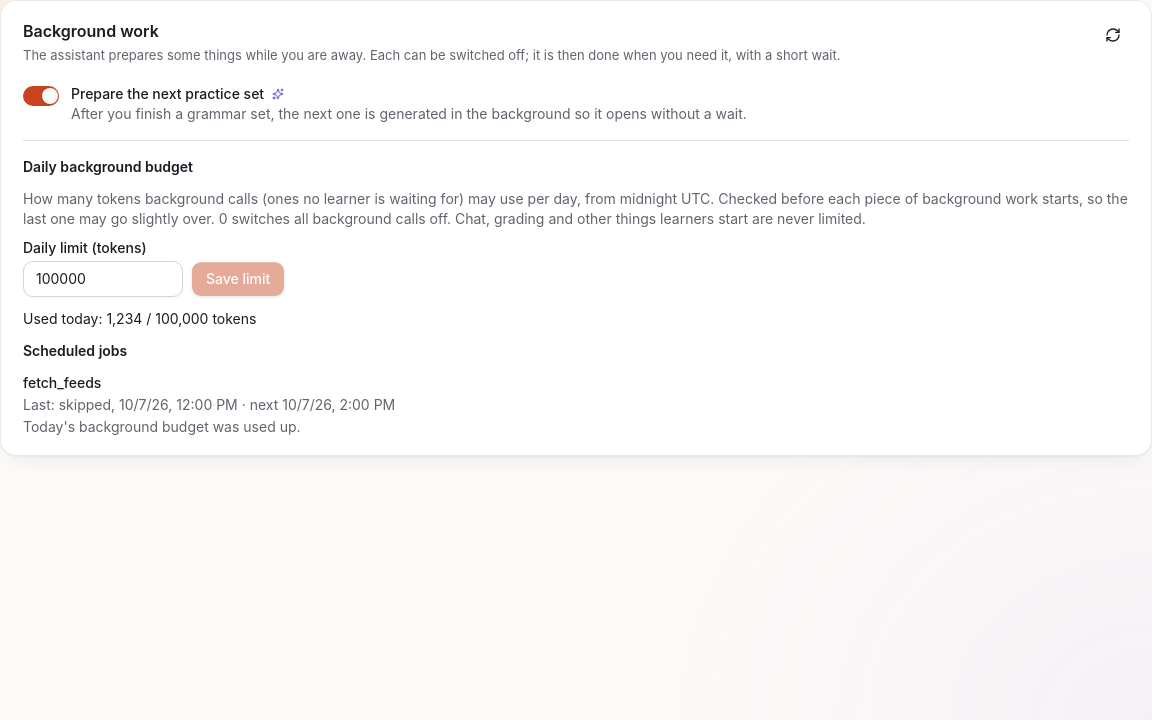
Test: BackgroundSection › shows managers today's use and jobs, and saves a new limit
Check: the text "Used today: 1,234 / 100,000 tokens" is shown, box [23,310,256,327]
Check: the text "fetch_feeds" is shown, box [23,374,101,391]
Replace the text in the number field labelled "Daily limit (tokens)" with "0" at point(103, 279), box [23,261,183,297]
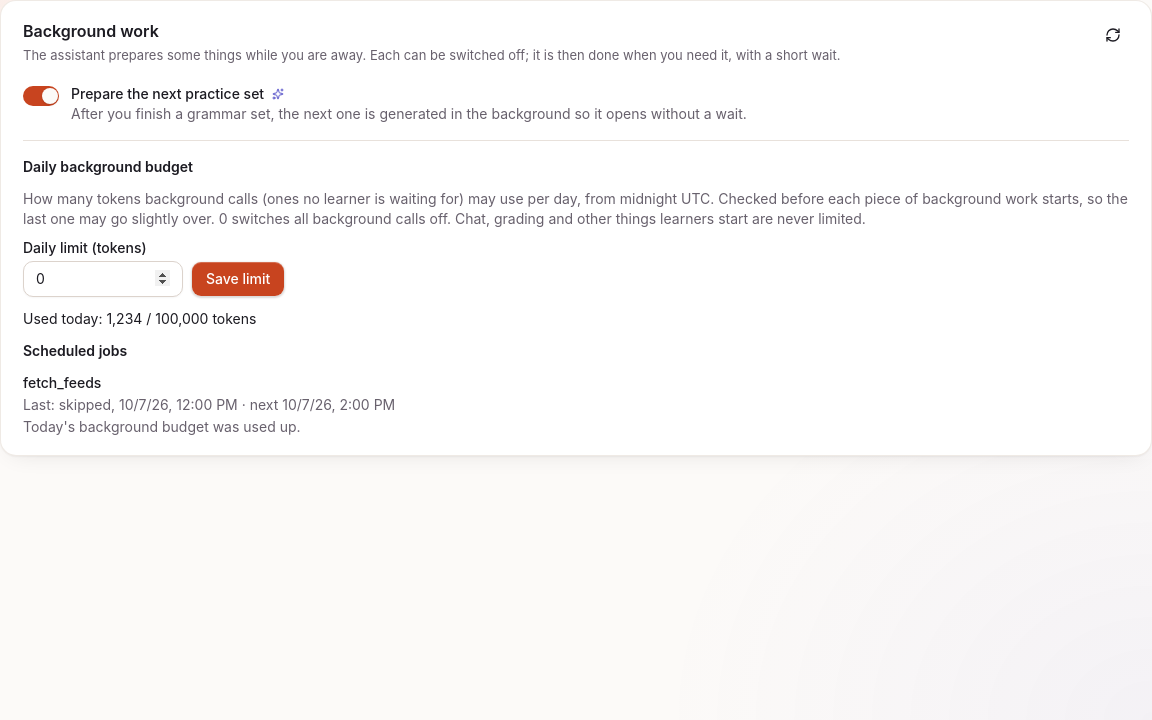
Click the button "Save limit" at point(238, 279), box [191,261,285,297]
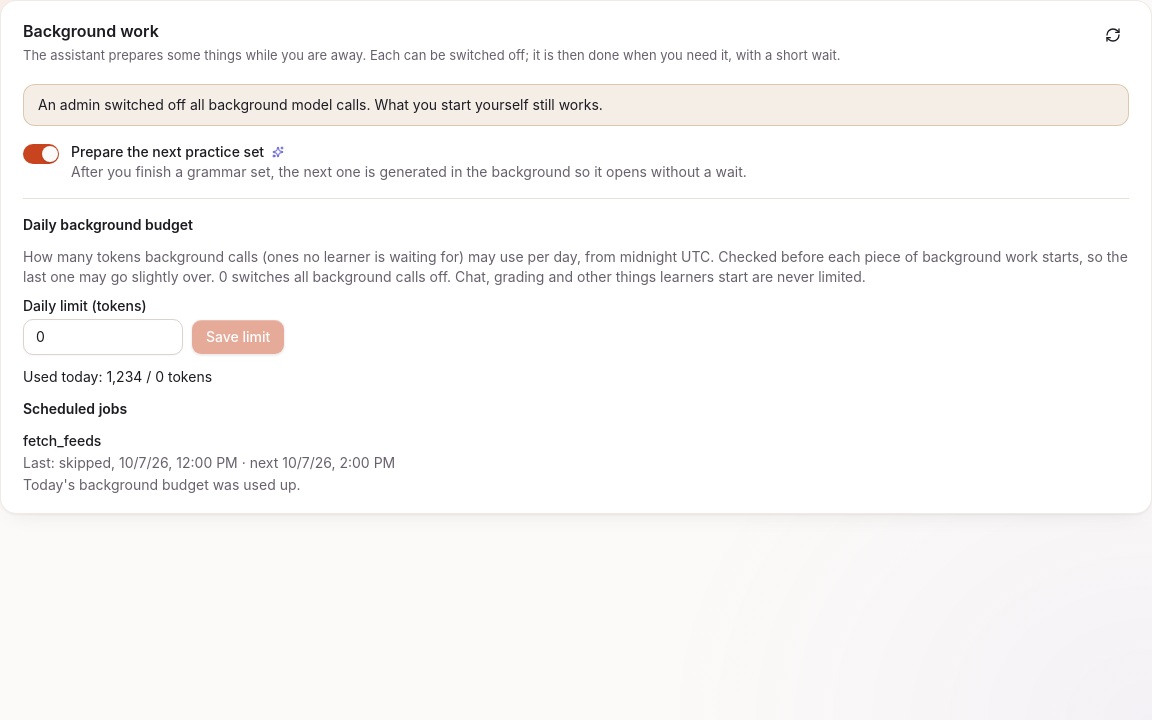
Check: the number field labelled "Daily limit (tokens)" holds "0", box [23,319,183,355]
Check: the text "An admin switched off all background model calls" is shown, box [38,96,603,113]
